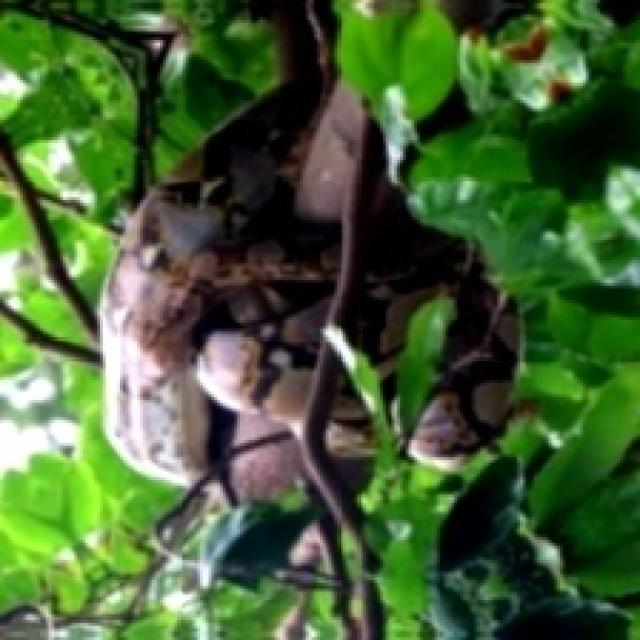reticulated python: (102, 1, 366, 499), (345, 162, 518, 459), (326, 385, 372, 477)
